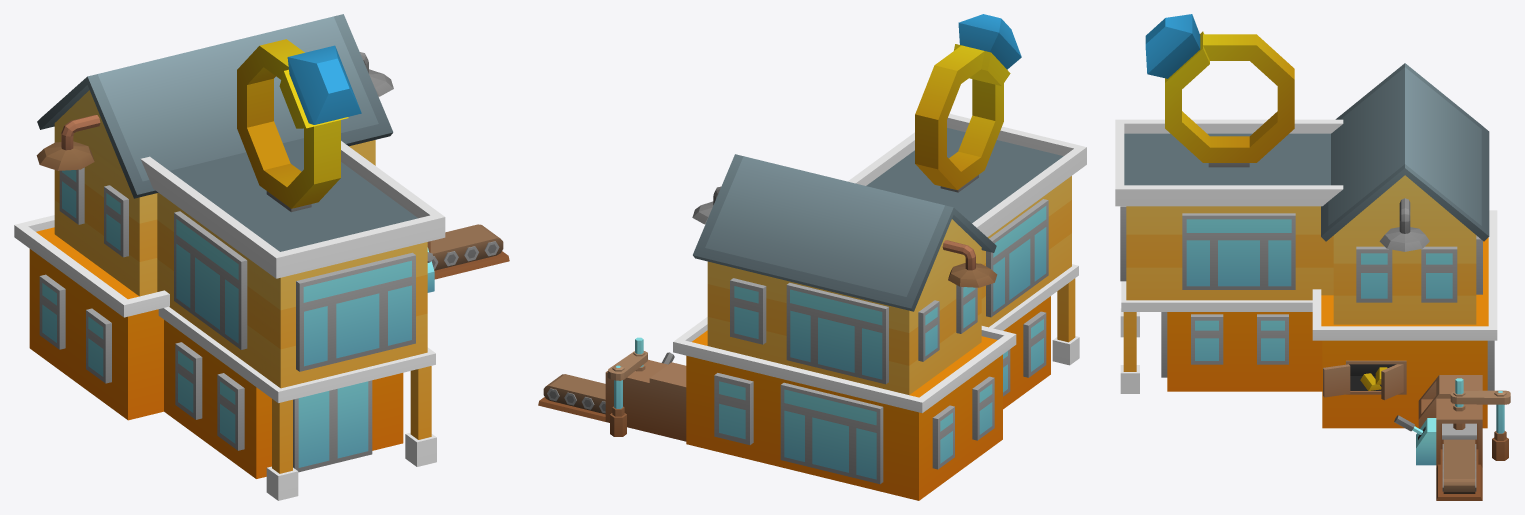
The model's file is jewelry factory house.fbx.
The picture shows the model from 3 angles, left to right: view 1: azimuth 30°, elevation 25°; view 2: azimuth 150°, elevation 25°; view 3: azimuth 270°, elevation 25°; orthographic projection. The views are drawn at different scales.
Parts seen in each view (by area): view 1: jewelry_factory_house; view 2: jewelry_factory_house; view 3: jewelry_factory_house.
Boxes of the visible parts, <box> form: jewelry_factory_house: <box>14,14,509,500</box>; jewelry_factory_house: <box>538,14,1086,500</box>; jewelry_factory_house: <box>1115,14,1510,500</box>.
Bounding box in the file's own units: 1269 × 997 × 1058.
Materials: 1 (1 with a texture image).
